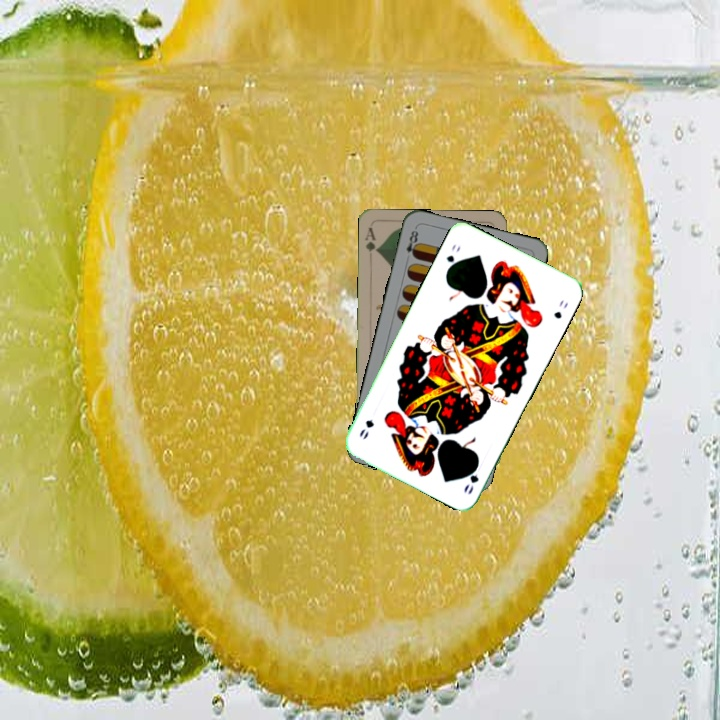E8: (402, 224, 421, 260)
GA: (361, 224, 381, 256)
GO: (460, 457, 482, 497), (442, 240, 463, 275)
